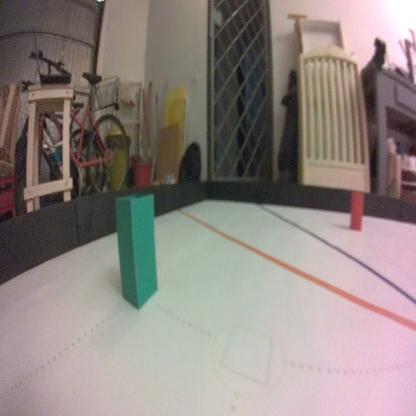green: (114, 188, 159, 314)
red: (347, 188, 365, 232)
